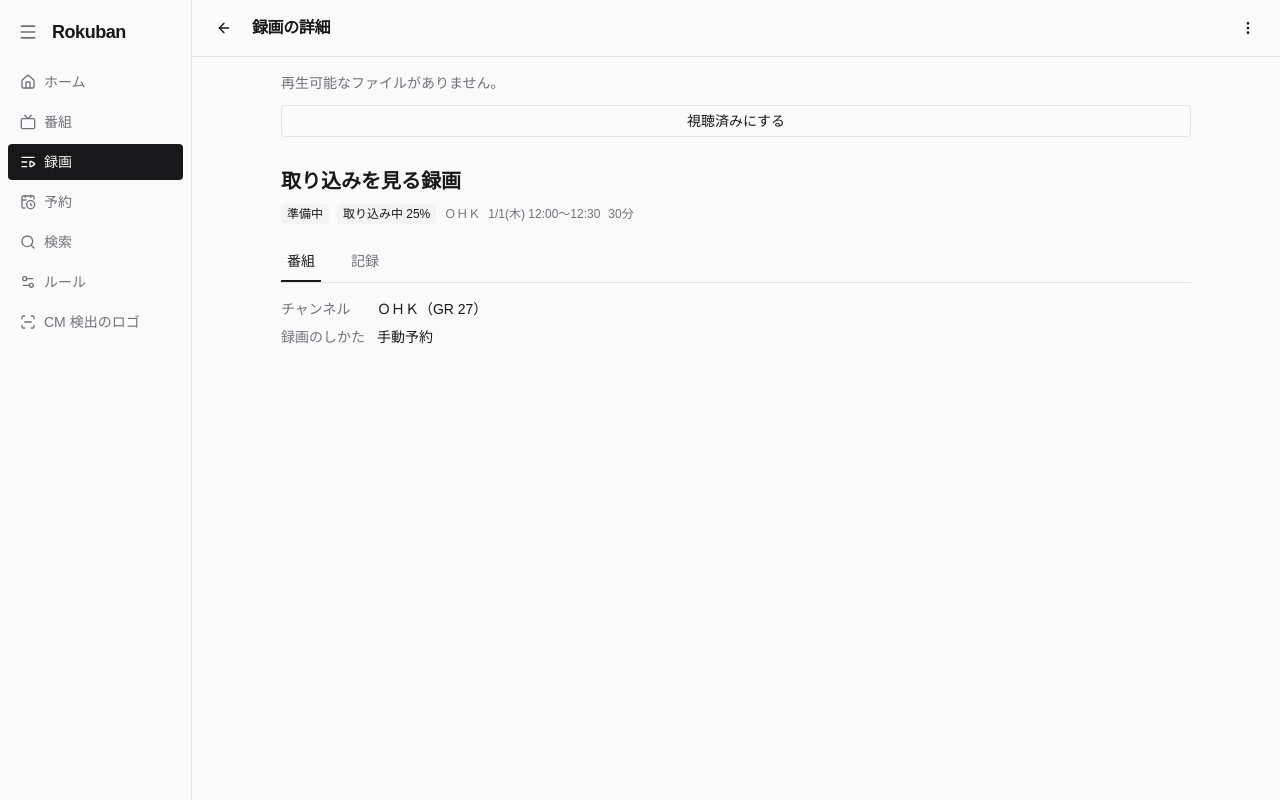
Test: 取り込み進捗の表示 › 転送中は割合と実バイト数が出る（sizeBytes には混ざらない）
Expected: the heading "取り込みを見る録画" is shown, [281,170,461,192]
Click the button with aria-label "取り込み状態を記録タブで見る": [387, 214] box [337,202,436,226]
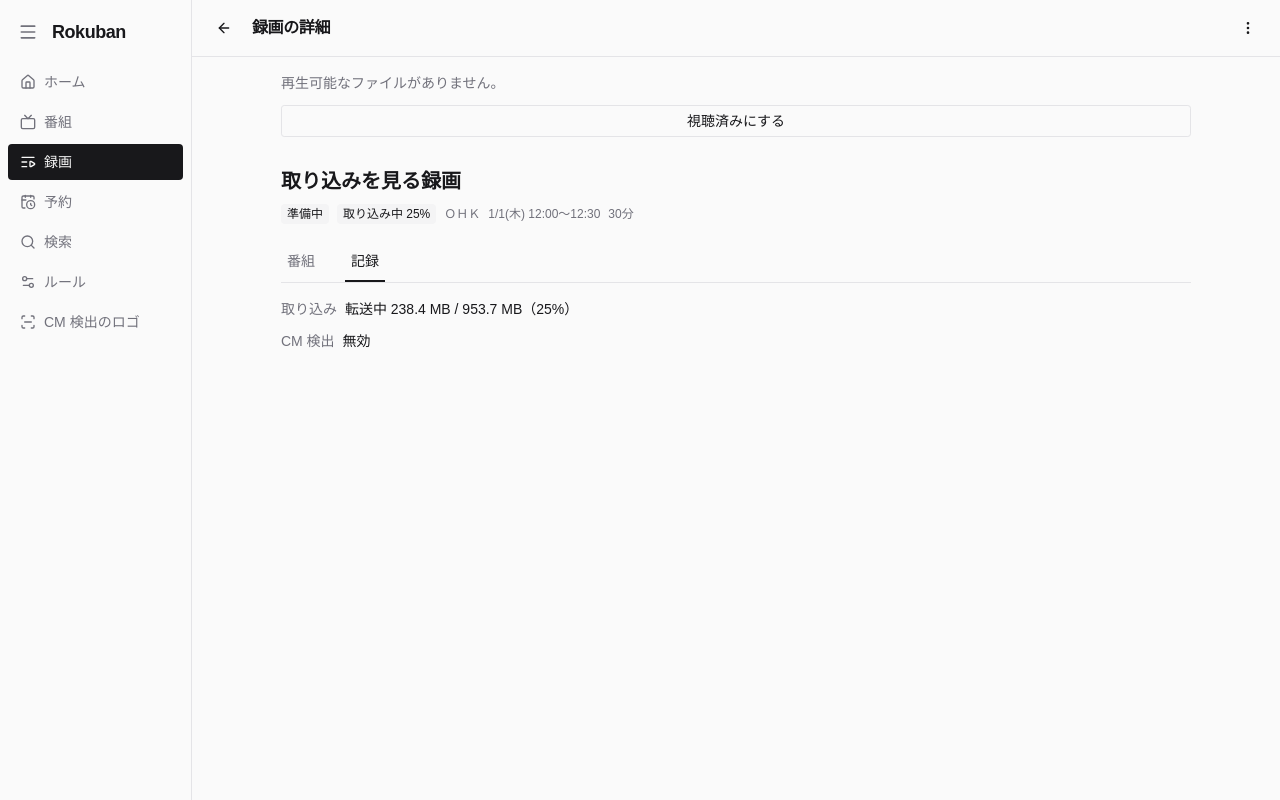
Now the text "転送中 238.4 MB / 953.7 MB（25%）" is shown, box [345,299,578,319]
